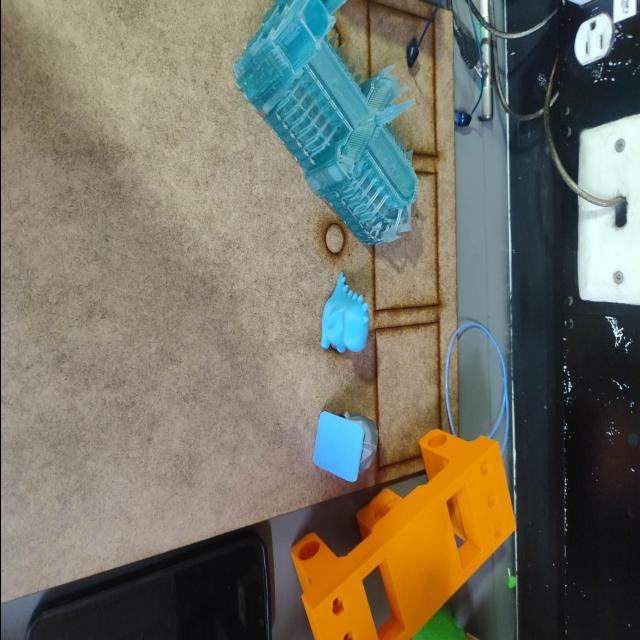DINO: (315, 260, 373, 372)
